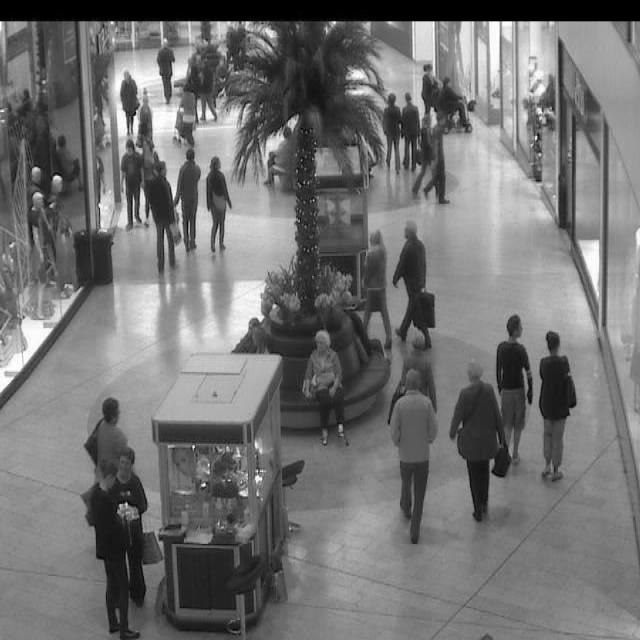person: (457, 357, 508, 524), (86, 452, 132, 635), (394, 364, 432, 552), (112, 440, 154, 608), (390, 215, 440, 352), (302, 325, 354, 451), (539, 327, 574, 489), (496, 314, 530, 469), (361, 222, 394, 354), (148, 157, 180, 275), (86, 388, 125, 471), (172, 147, 202, 249), (116, 132, 144, 231), (376, 85, 406, 172), (206, 151, 230, 257), (152, 28, 182, 108), (440, 71, 476, 137), (428, 112, 454, 199), (115, 66, 144, 134), (402, 88, 426, 169), (414, 59, 442, 122), (175, 81, 198, 151), (134, 89, 156, 144), (418, 108, 430, 203), (202, 57, 216, 124), (250, 323, 274, 357), (234, 16, 248, 63), (224, 23, 238, 64), (190, 45, 202, 79)
